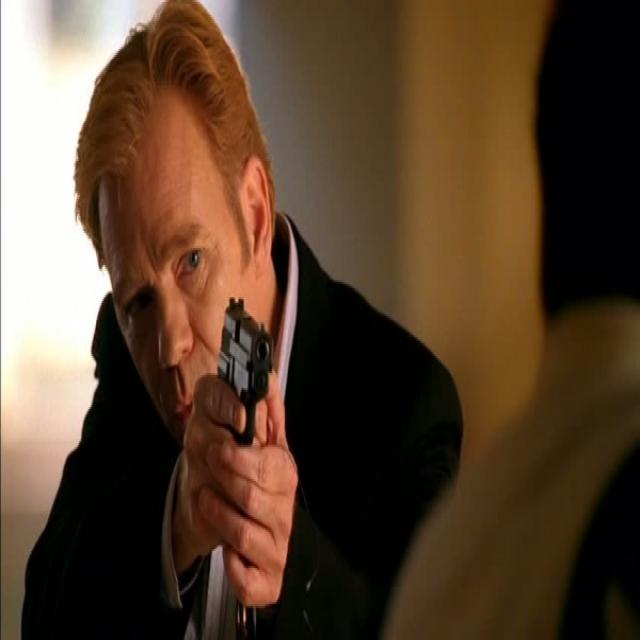weapons: (193, 274, 294, 536)
